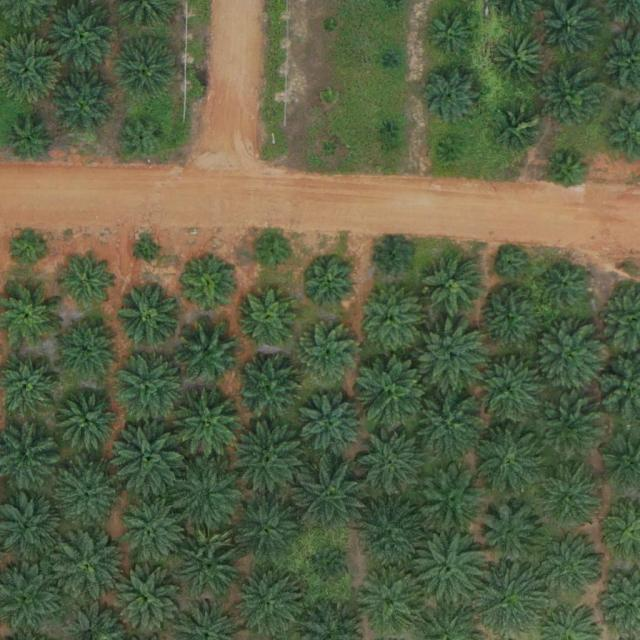Healthy: (109, 422, 187, 501), (167, 458, 245, 537), (227, 422, 305, 501), (293, 459, 371, 538), (356, 353, 434, 432), (353, 496, 431, 575), (408, 384, 486, 463), (414, 528, 492, 607), (473, 422, 551, 501), (48, 529, 126, 607), (471, 355, 549, 433), (235, 353, 306, 424), (416, 321, 487, 392), (476, 501, 547, 572), (114, 349, 184, 420), (173, 390, 243, 461), (172, 527, 242, 598), (230, 495, 301, 565), (298, 391, 368, 462), (359, 568, 429, 639), (417, 466, 487, 537), (416, 62, 486, 132), (116, 497, 186, 567), (234, 568, 304, 638), (355, 427, 425, 497), (534, 323, 604, 393), (535, 393, 605, 463), (538, 535, 608, 605), (52, 75, 115, 138), (57, 391, 120, 454), (55, 463, 118, 526), (295, 324, 358, 387), (360, 288, 423, 351), (542, 68, 604, 131), (56, 318, 118, 381), (116, 571, 178, 634), (423, 255, 485, 318), (479, 289, 541, 352), (117, 39, 179, 101), (119, 284, 181, 346), (178, 320, 240, 382), (543, 4, 598, 59), (494, 34, 549, 89), (59, 256, 114, 311), (183, 261, 238, 316), (243, 290, 298, 345), (304, 258, 359, 313), (543, 470, 598, 525), (498, 107, 545, 154), (7, 119, 54, 166), (543, 263, 590, 310)
Small: (428, 6, 483, 62), (121, 115, 168, 162), (374, 239, 414, 279), (547, 153, 587, 192), (9, 227, 48, 267), (256, 235, 295, 274), (311, 550, 350, 589), (496, 250, 527, 281), (441, 138, 465, 162), (138, 240, 161, 264), (381, 122, 397, 138), (321, 90, 337, 105), (323, 142, 338, 158), (385, 54, 401, 69), (324, 20, 339, 35)
